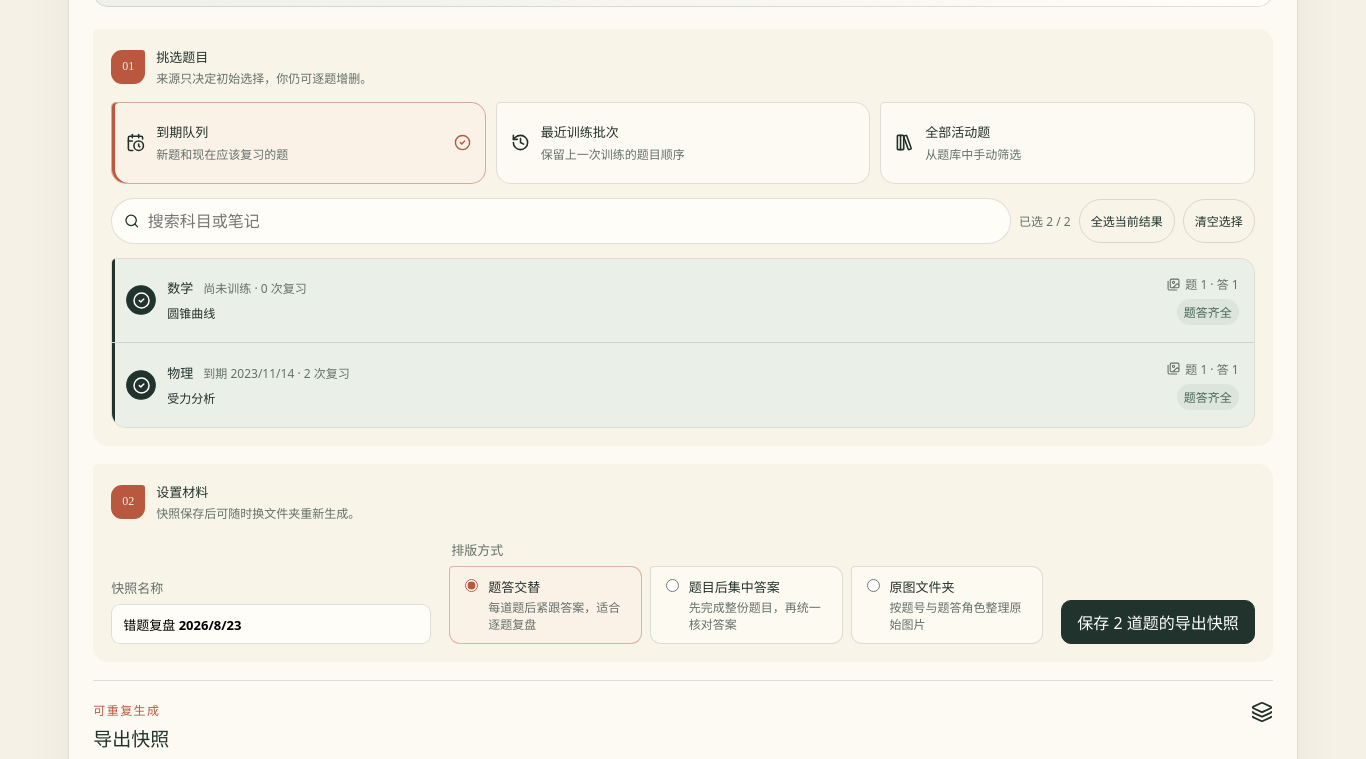
ReportView › keeps explicit candidates visible during a same-source refresh and after failure
The image size is (1366, 759).
(page scrolled)
Click the checkbox named "选择物理：受力分析". click: (277, 373)
box: [112,343,1254,427]
(page scrolled)
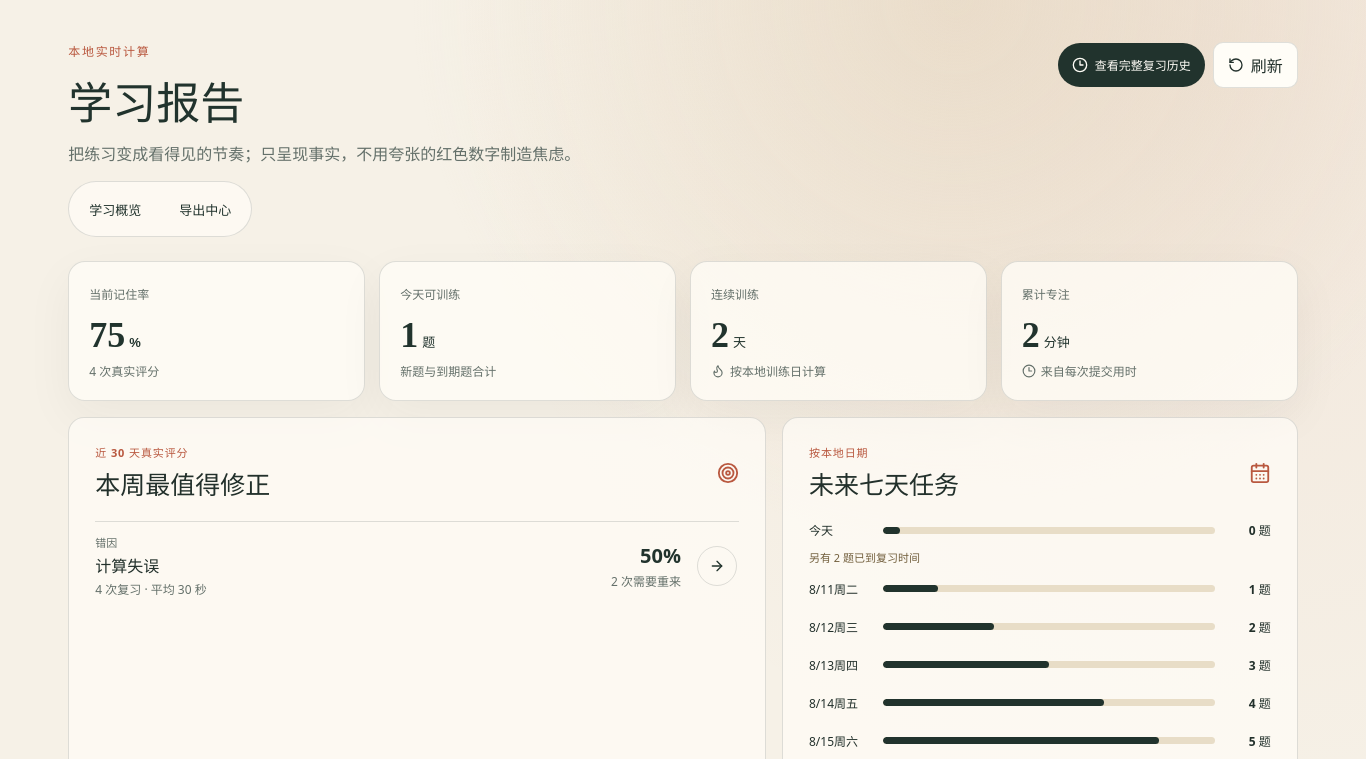
Click the button "刷新". click: (1255, 65)
box: [1213,42,1298,88]
(page scrolled)
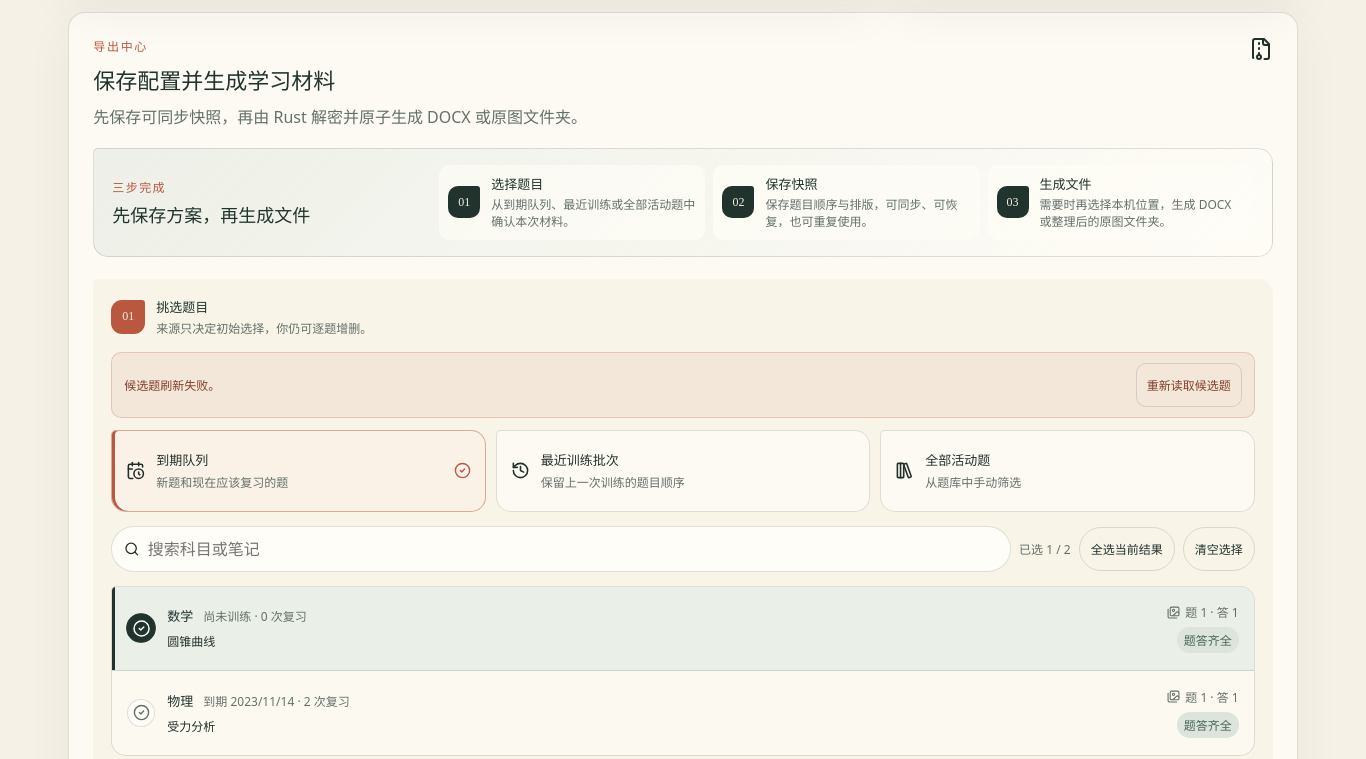
Expected: the checkbox named "选择数学：圆锥曲线" is checked, [112,587,1254,671]
Expected: the checkbox named "选择物理：受力分析" is not checked, [127,689,1239,738]
Expected: the message shows "候选题刷新失败。", [124,377,220,394]
